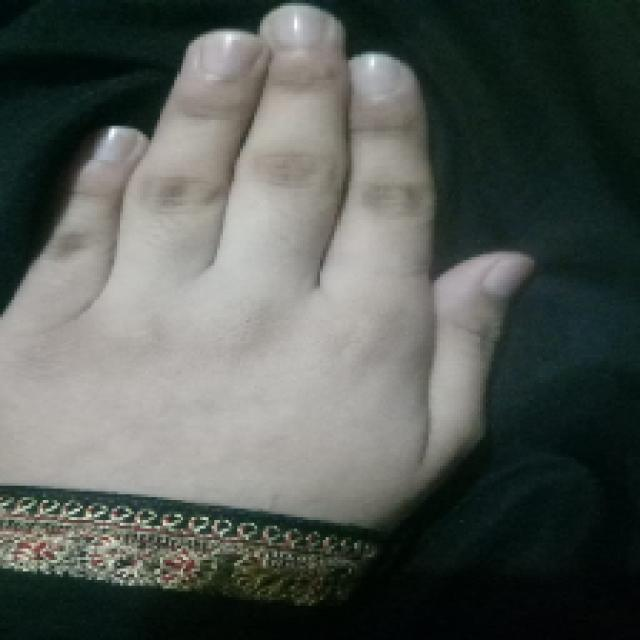Nail: (199, 30, 261, 82), (264, 4, 327, 50), (481, 251, 535, 298), (349, 52, 400, 96), (92, 126, 141, 162)
